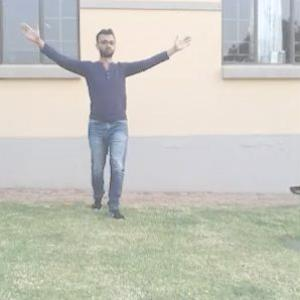takeoff: (25, 26, 189, 212)
